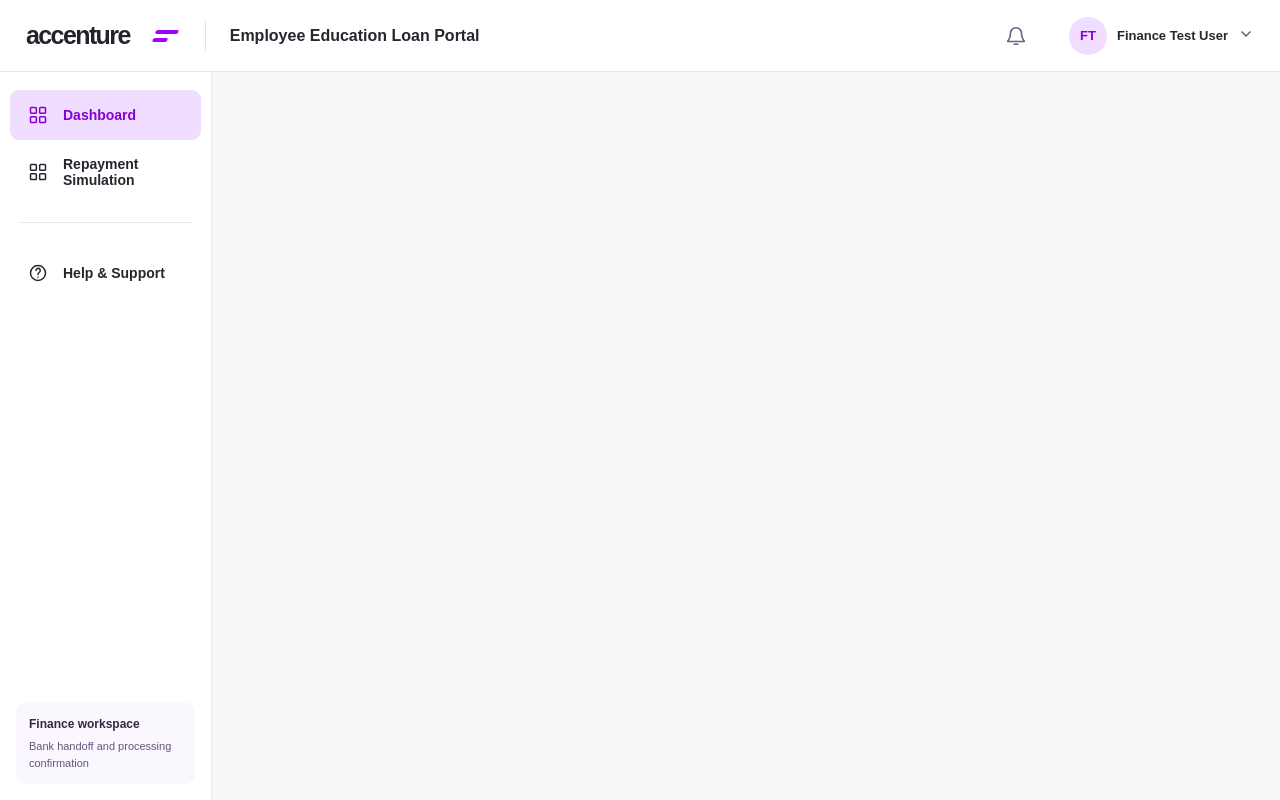
FinanceNav › provides account, password and logout actions in the profile menu
Click the button "FT Finance Test User": [1162, 36] box [1069,12,1254,58]
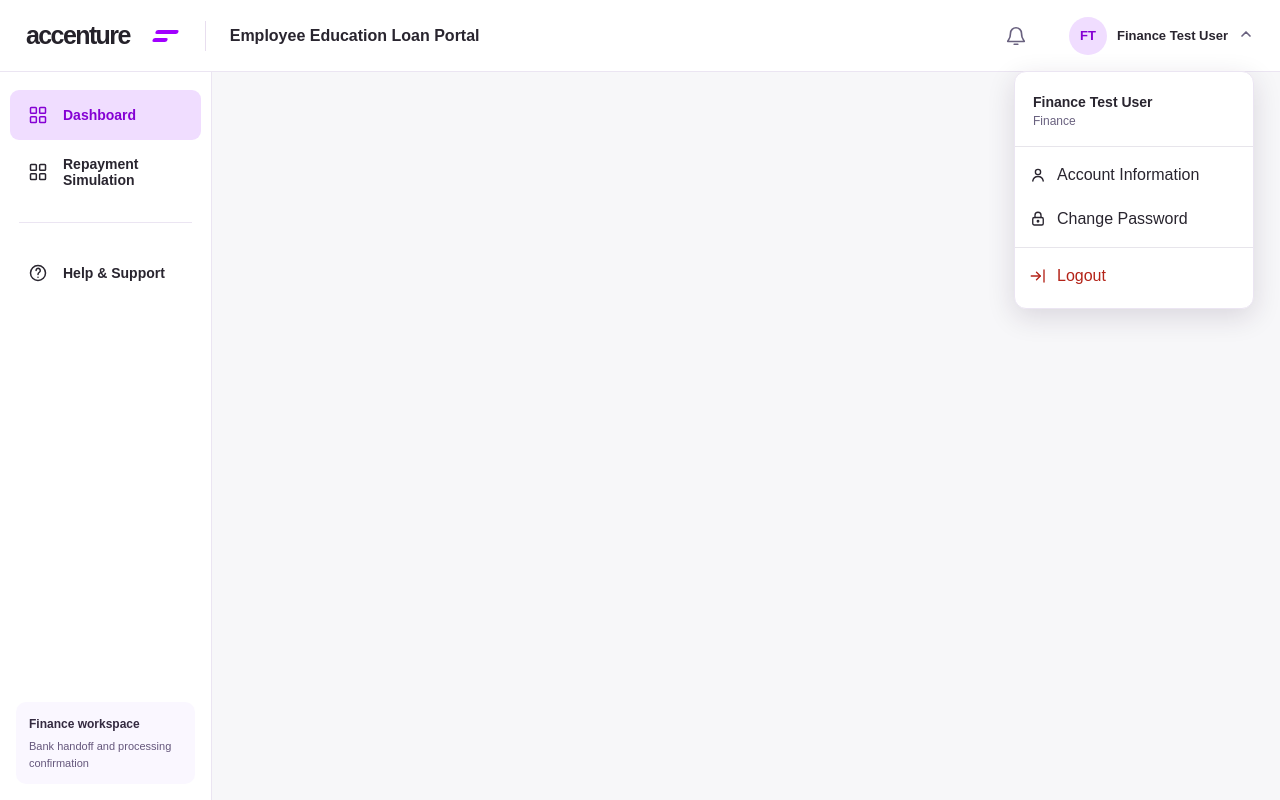
Result: the menu item "Logout" is shown at [1015,254,1253,298]
